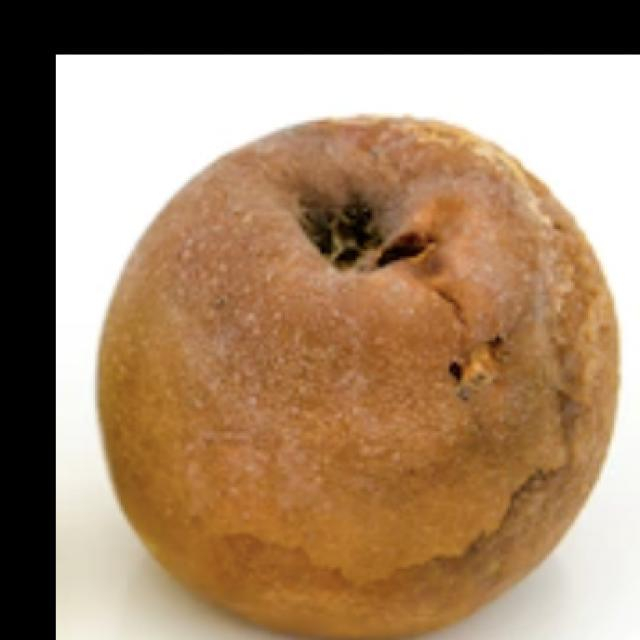Rotten: (113, 116, 640, 621)
